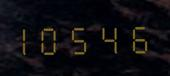five: (72, 20, 98, 55)
four: (99, 19, 125, 55)
one: (18, 21, 44, 56)
six: (126, 19, 152, 54)
zero: (45, 20, 71, 56)
